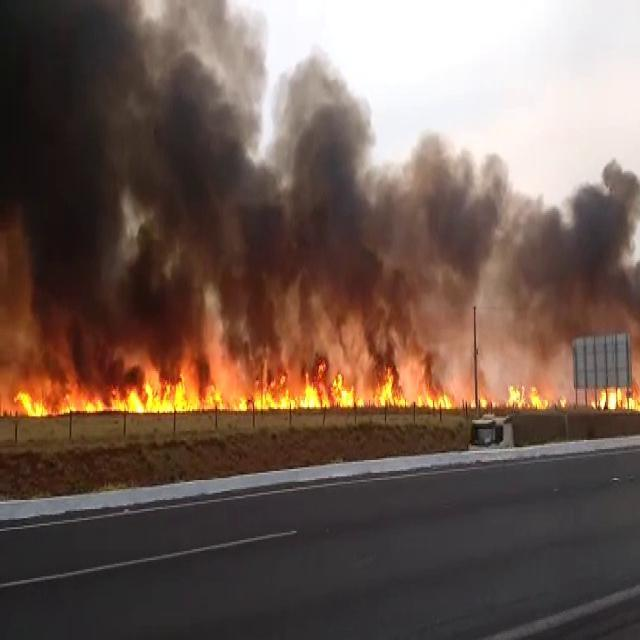Fire: (0, 350, 224, 416), (243, 356, 412, 409), (590, 382, 640, 411), (501, 386, 554, 410), (416, 376, 455, 408), (556, 396, 566, 406), (481, 398, 489, 408)
Smoke: (0, 6, 274, 348), (423, 130, 640, 358), (278, 56, 420, 348)
